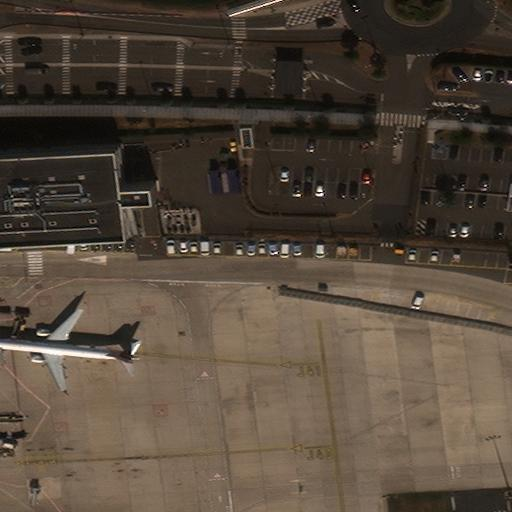Medium Civil Transport: (0, 308, 141, 391)
